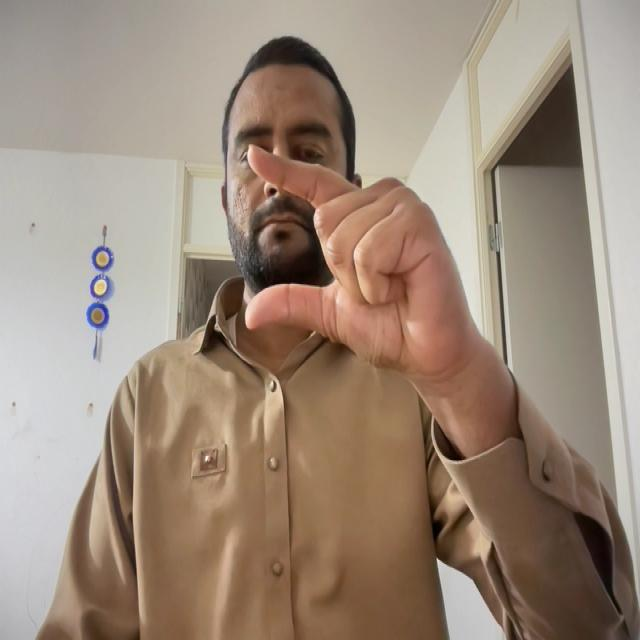No: (235, 120, 492, 374)
